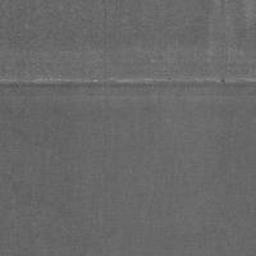Welding line: (0, 78, 256, 87)
